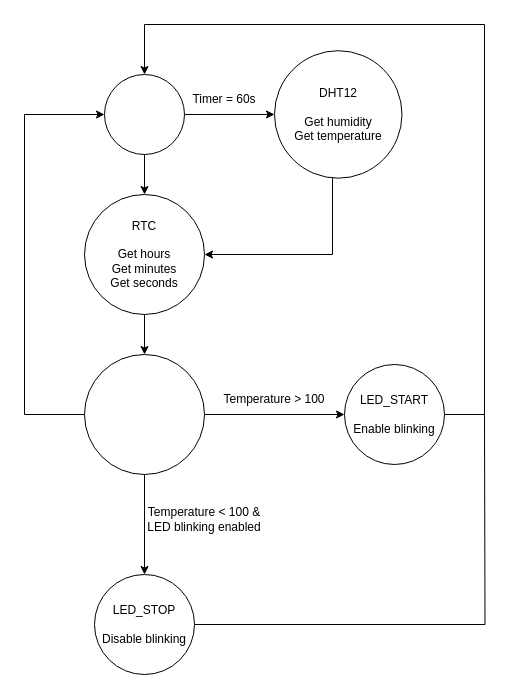
Some shapes in this 510 by 692 pixel diagram are drawn without their labels. The centre of each missing label's shape, as x and y in pixels:
"IDLE Increase timer" belongs at [144,114].
"LCD Display hh:mm:ss Display temperature Display humidity" belongs at [144,414].
